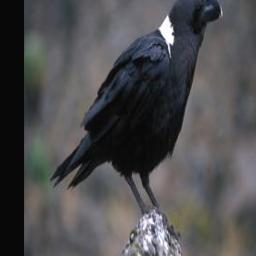Crow: (49, 0, 224, 244)
